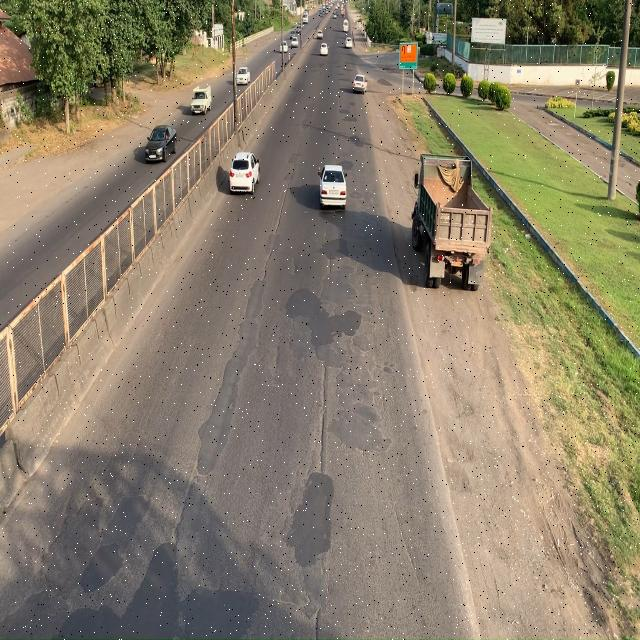Truck: (414, 148, 499, 290)
cars: (142, 119, 179, 166), (228, 148, 262, 195), (317, 162, 348, 210)
